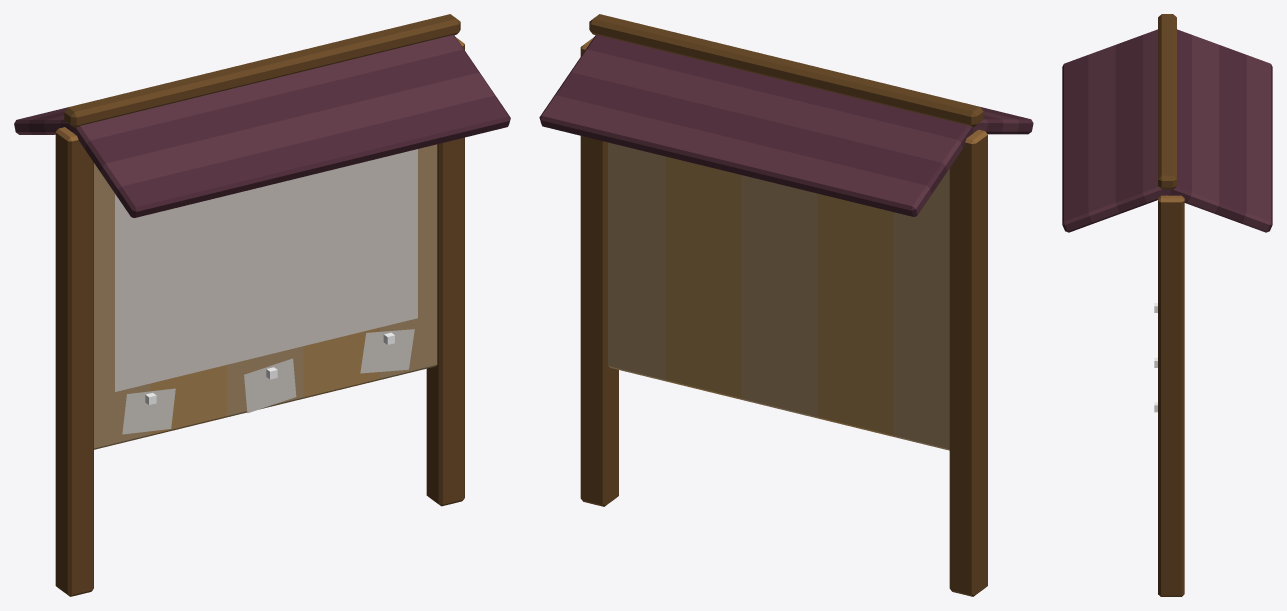
File: quest_board.glb
3 views of the same model, side by side, from view 1: azimuth 30°, elevation 25°; view 2: azimuth 150°, elevation 25°; view 3: azimuth 270°, elevation 25° (orthographic). The views are drawn at different scales.
Visible parts, largest first — view 1: QuestBoard; view 2: QuestBoard; view 3: QuestBoard.
Boxes of the visible parts, left/top/right/bottom form: QuestBoard: left=14, top=14, right=510, bottom=596; QuestBoard: left=539, top=14, right=1033, bottom=596; QuestBoard: left=1062, top=14, right=1272, bottom=596.
Bounding box in the file's own units: 2.1 × 2.44 × 1.11.
